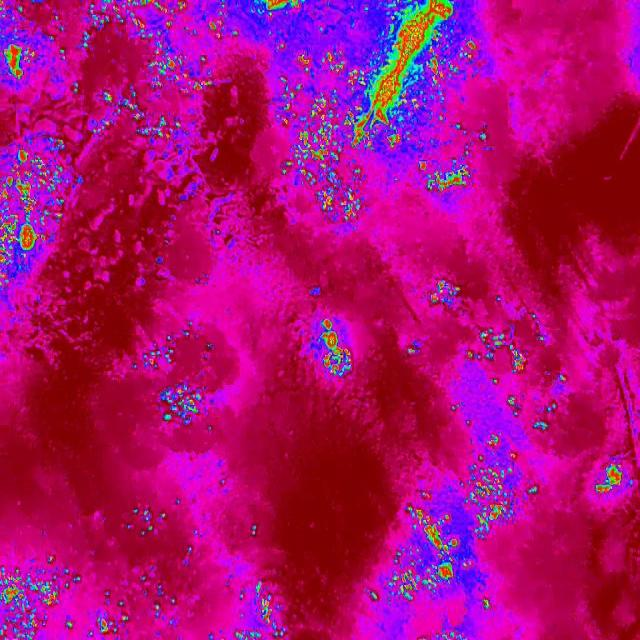fire: (251, 0, 492, 226), (358, 428, 544, 611), (76, 0, 226, 154), (468, 320, 568, 432), (0, 124, 65, 291), (134, 331, 225, 431), (0, 552, 85, 640), (92, 566, 180, 640), (234, 575, 305, 640), (0, 8, 39, 102), (316, 318, 358, 383), (124, 498, 190, 536), (592, 458, 626, 498), (428, 280, 466, 310)
